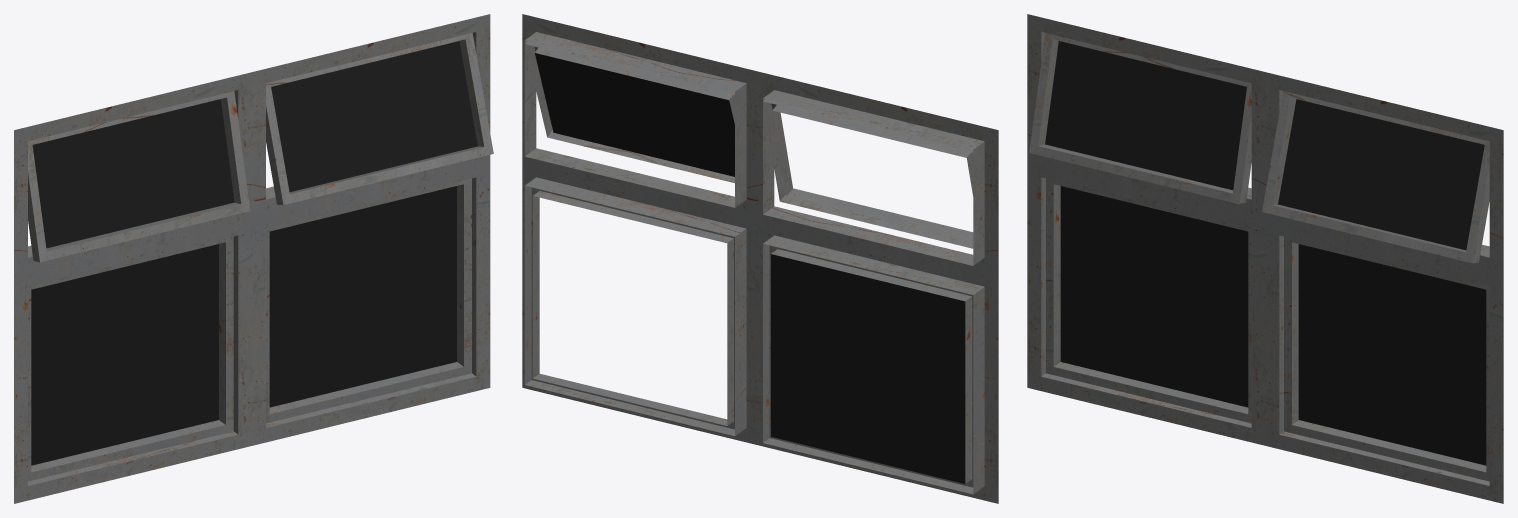
File: window_002_005_24.gltf
3 views of the same model, side by side, from view 1: azimuth 30°, elevation 25°; view 2: azimuth 150°, elevation 25°; view 3: azimuth 330°, elevation 25° (orthographic).
Visible parts, largest first — view 1: Window_002.005_24; view 2: Window_002.005_24; view 3: Window_002.005_24.
Boxes of the visible parts, bbox=[...] form: Window_002.005_24: bbox=[14, 14, 493, 503]; Window_002.005_24: bbox=[522, 14, 998, 503]; Window_002.005_24: bbox=[1027, 14, 1503, 503].
Bounding box in the file's own units: 1.2 × 0.9 × 0.1258.
Materials: 2 (1 with a texture image).
